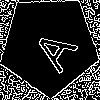A: (24, 20, 79, 74)
